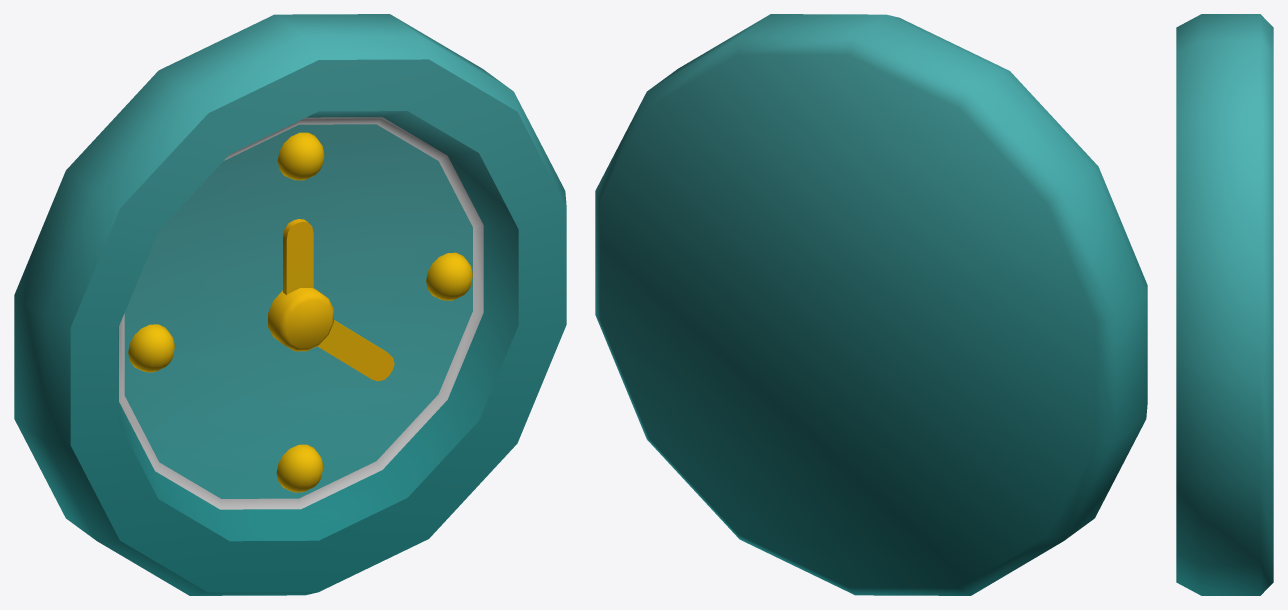
Rendered from Clock_3.fbx.
The picture shows the model from 3 angles, left to right: view 1: azimuth 30°, elevation 25°; view 2: azimuth 150°, elevation 25°; view 3: azimuth 270°, elevation 25°; orthographic projection. The views are drawn at different scales.
Parts seen in each view (by area): view 1: Clock_3, Clock_3 Attach_2, Clock_3 Attach_1; view 2: Clock_3; view 3: Clock_3.
Part boxes in pixels (bbox=[...]): Clock_3: bbox=[14, 14, 566, 595]; Clock_3 Attach_2: bbox=[317, 320, 394, 381]; Clock_3 Attach_1: bbox=[283, 219, 313, 295]; Clock_3: bbox=[595, 14, 1147, 595]; Clock_3: bbox=[1176, 14, 1273, 595].
Size of the model in its own units: 0.3943 by 0.4044 by 0.0675.
1 material, 1 textured.
